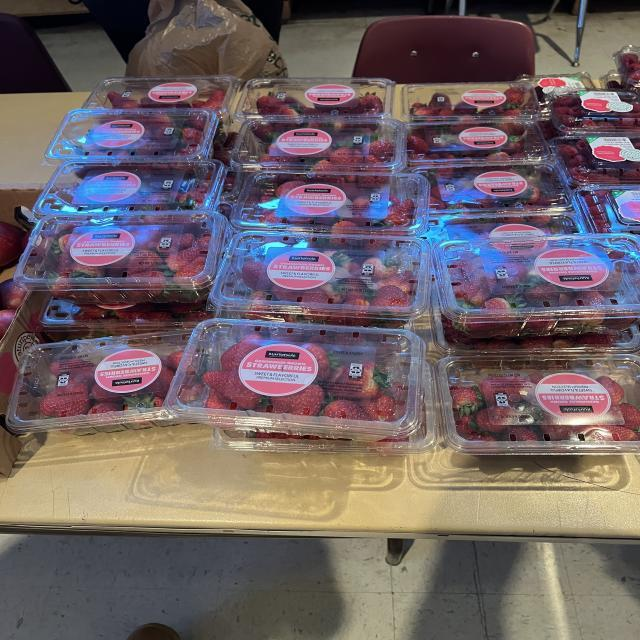Apple -Red-: (0, 221, 25, 266), (0, 279, 27, 310), (0, 309, 17, 340)
Raspberries: (555, 136, 640, 186), (550, 90, 640, 135), (575, 185, 640, 234), (517, 71, 593, 112), (613, 45, 640, 90), (598, 70, 625, 89)
Strawberries: (165, 319, 425, 440), (210, 361, 438, 456), (433, 235, 640, 339), (435, 355, 640, 455), (212, 231, 430, 324), (13, 212, 227, 304), (7, 330, 192, 434), (430, 290, 640, 355), (232, 171, 428, 235), (33, 159, 225, 218), (45, 109, 218, 164), (232, 118, 407, 171), (413, 161, 572, 214), (38, 298, 213, 341), (235, 78, 395, 122), (82, 75, 242, 118), (405, 119, 548, 165), (402, 81, 540, 121), (423, 211, 585, 245)
